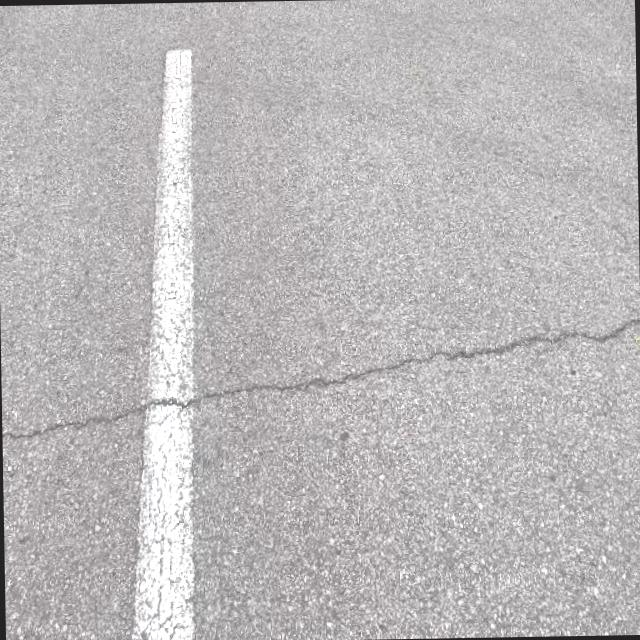Retak-Melintang: (6, 308, 640, 442)
